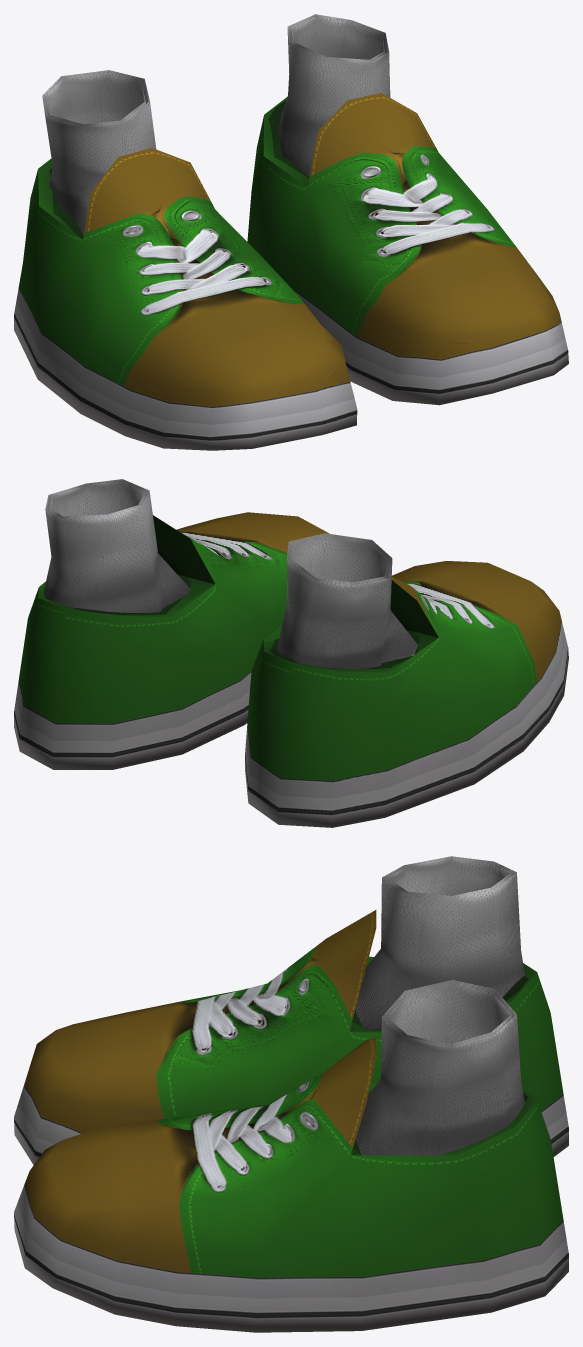
The model's file is TPFeetA.fbx.
3 renders of one model, top to bottom at view 1: azimuth 30°, elevation 25°; view 2: azimuth 150°, elevation 25°; view 3: azimuth 270°, elevation 25°, orthographic. The views are drawn at different scales.
Visible parts, largest first — view 1: TPFeetA; view 2: TPFeetA; view 3: TPFeetA.
Part boxes in pixels (x1=…): TPFeetA: x1=14, y1=14, x2=568, y2=450; TPFeetA: x1=14, y1=479, x2=568, y2=827; TPFeetA: x1=14, y1=856, x2=568, y2=1332.
Size of the model in its own units: 28.76 by 14.65 by 27.22.
Materials: 1 (1 with a texture image).
